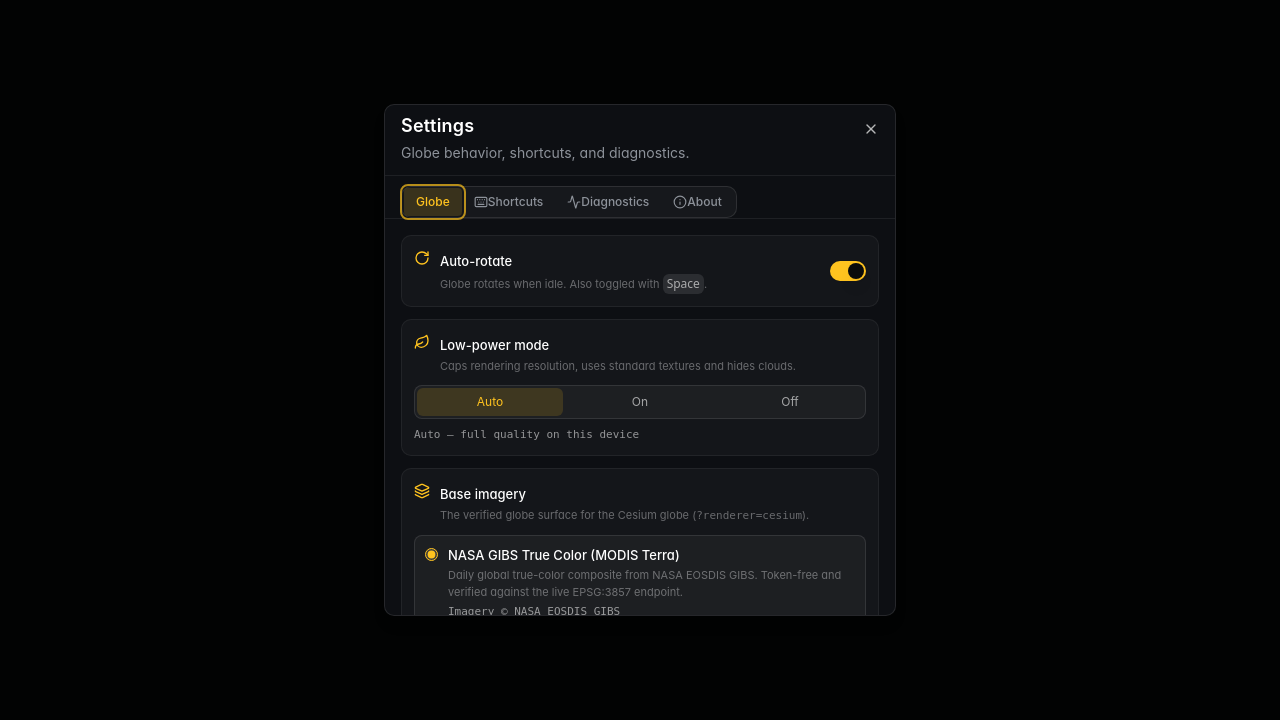
Test: SettingsModal responsive layout (T3.9) › Shortcuts tab keeps shortcut hints visible with compact styling
Press the mouse on the tab "Shortcuts" at x=508, y=202, box top-left (462, 188), bottom-right (555, 216)
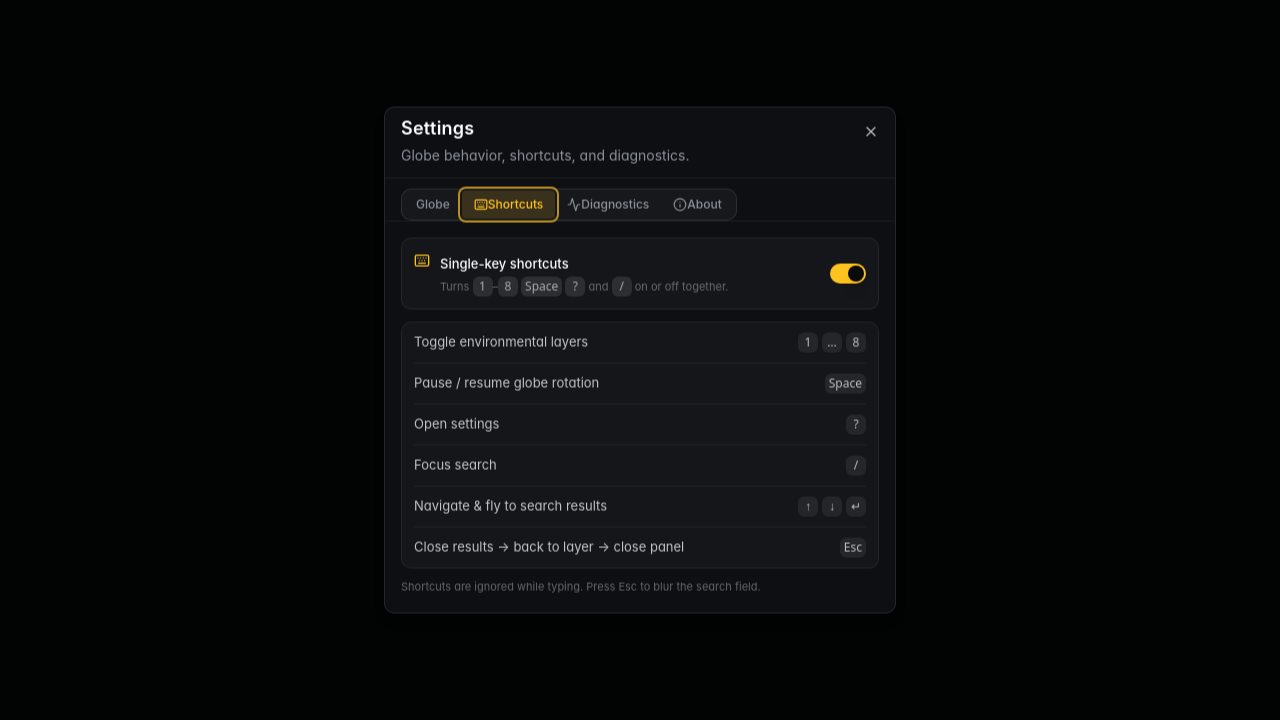
Expected: the text "Toggle environmental layers" is shown, top-left (414, 333), bottom-right (588, 352)
Expected: the text "Focus search" is shown, top-left (414, 456), bottom-right (497, 475)
